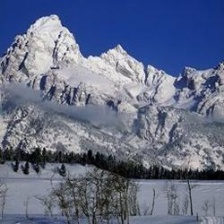neutral: (4, 5, 223, 224)
